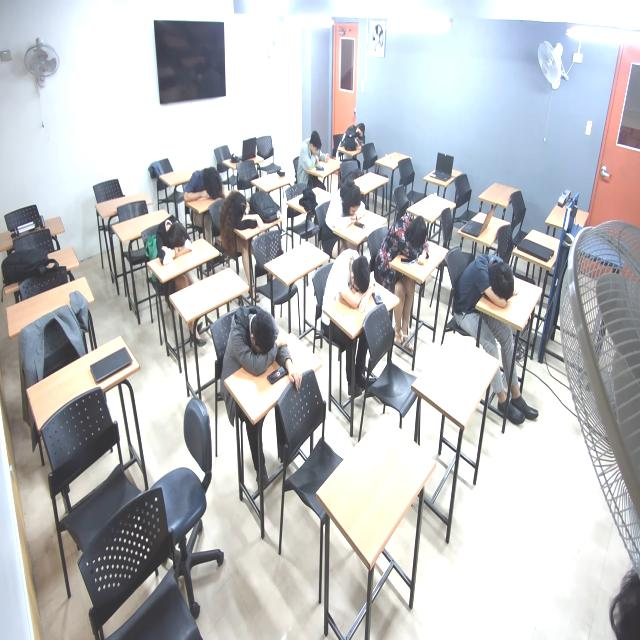sleep: (225, 301, 285, 381), (455, 250, 517, 314), (322, 250, 378, 318), (140, 209, 191, 277), (380, 211, 433, 270), (222, 189, 266, 243), (185, 164, 227, 207), (334, 183, 366, 230), (341, 122, 369, 155)
